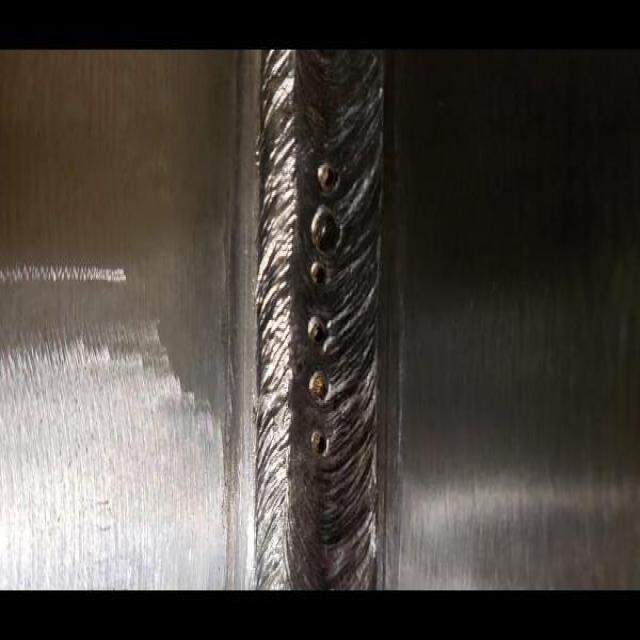Welding Line: (264, 46, 379, 594)
porosity: (306, 162, 341, 458)
